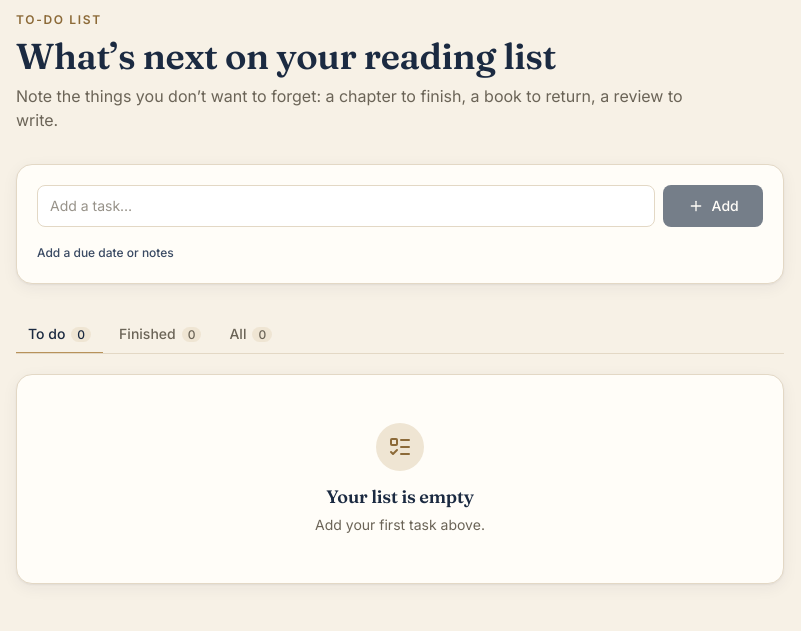
it: To-do list › rolls back a task the server rejects and gives the text back
Expected: the heading "Your list is empty" is shown, top-left (326, 483), bottom-right (474, 511)
Type "Lost task" into the field named "New task".
click(346, 206); type("Lost task")  # box top-left (37, 185), bottom-right (655, 227)
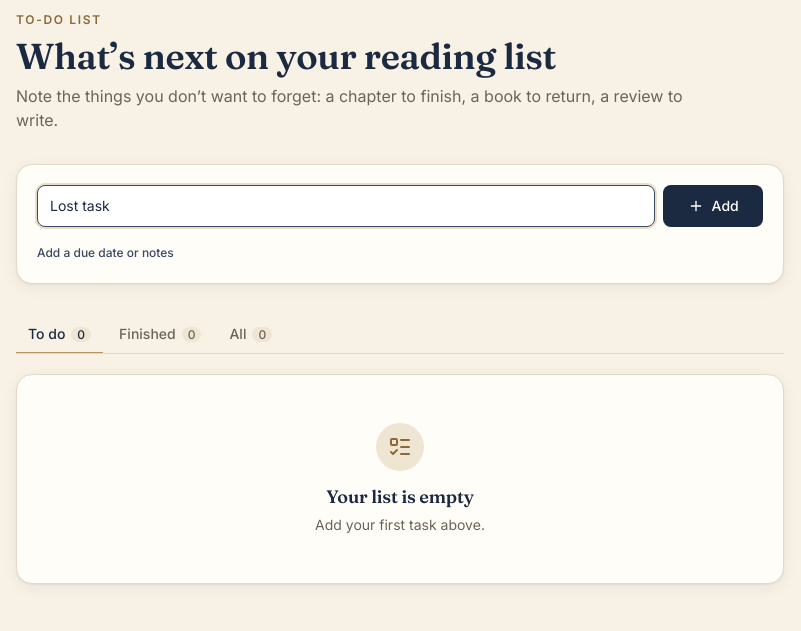
Click the button "Add".
click(713, 206)  # box top-left (663, 185), bottom-right (763, 227)
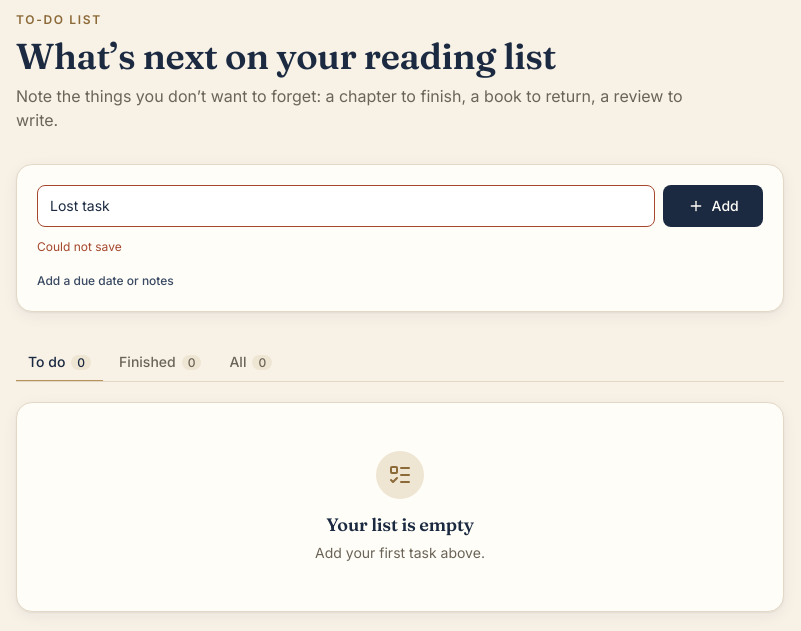
Result: the message reads "Could not save" at top-left (37, 239), bottom-right (122, 254)
